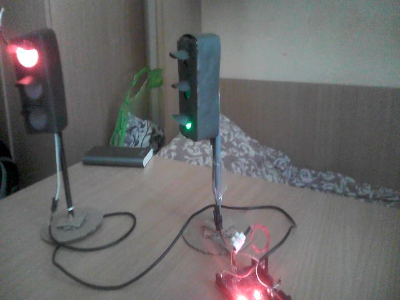trafficlight_green: (173, 34, 198, 138)
trafficlight_red: (7, 39, 52, 133)
